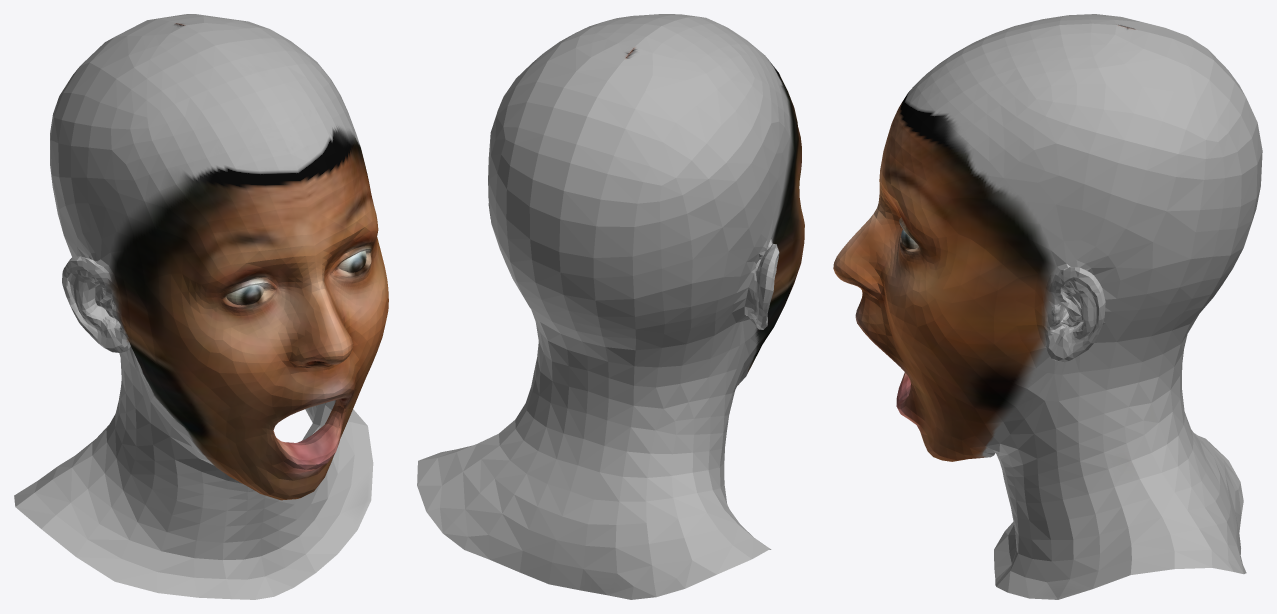
The model's file is image02673.obj.
3 views of the same model, side by side, from view 1: azimuth 30°, elevation 25°; view 2: azimuth 150°, elevation 25°; view 3: azimuth 270°, elevation 25° (orthographic). The views are drawn at different scales.
Size of the model in its own units: 0.208 by 0.3173 by 0.2278.
1 material, 1 textured.
